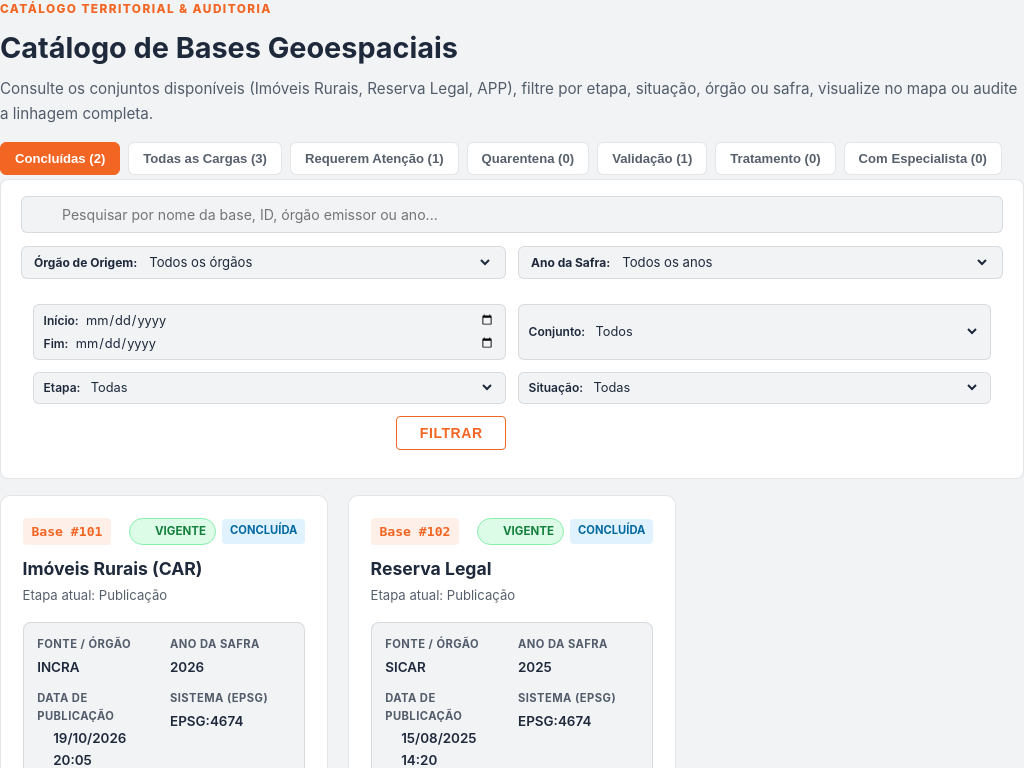
CargaListView (Catálogo de Bases) › exibe Empty State amigável quando nenhuma base corresponde aos filtros
This screenshot has width=1024, height=768.
Type "base-inexistente-xyz-999" into the search field with test id "search-input". click: (512,214)
box: [21, 196, 1003, 233]
(page scrolled)
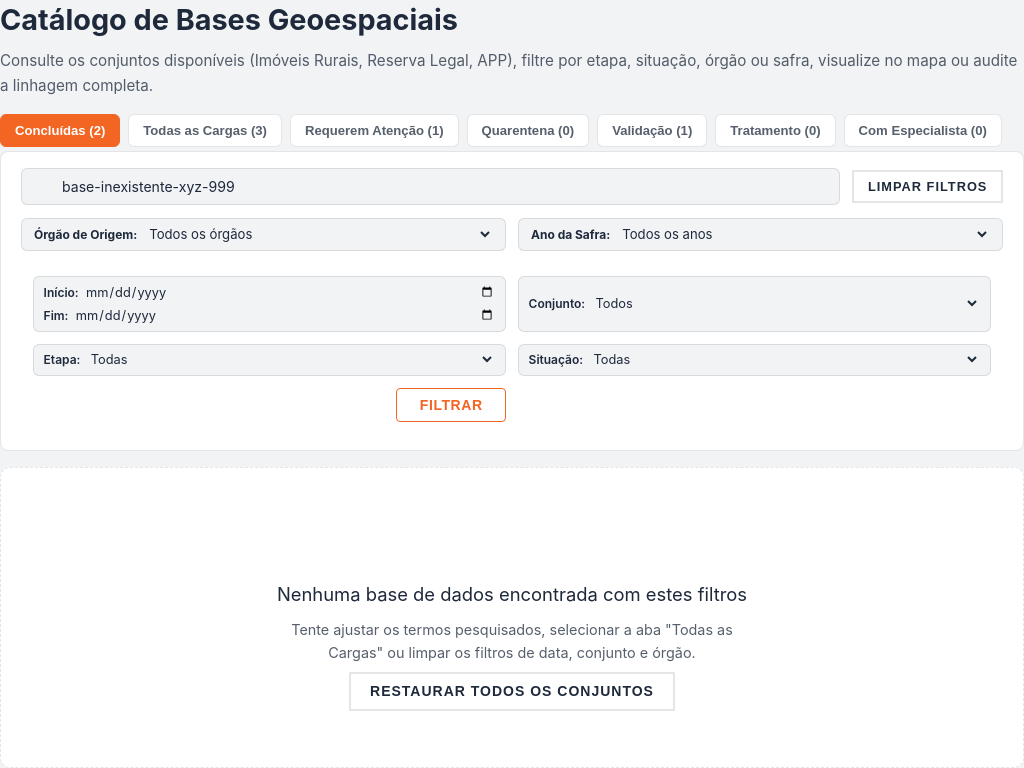
Expected: the element with test id "empty-state" is shown, [0, 467, 1023, 767]
Expected: the element with test id "empty-state" shows "Nenhuma base de dados encontrada com estes filtros", [277, 583, 747, 605]
